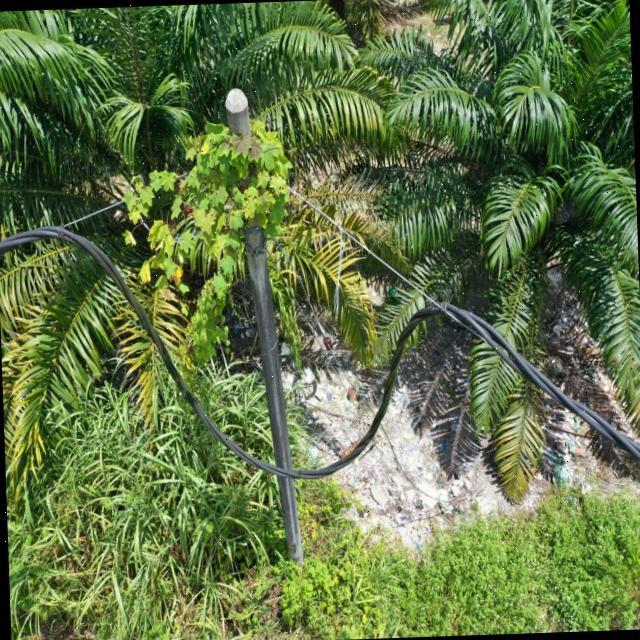critical vegetation: (121, 109, 306, 436)
